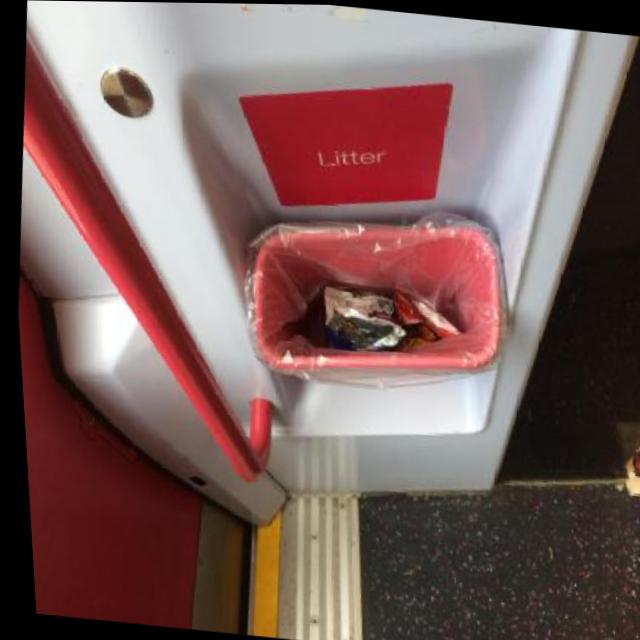plastic: (318, 285, 410, 354), (390, 288, 464, 342)
